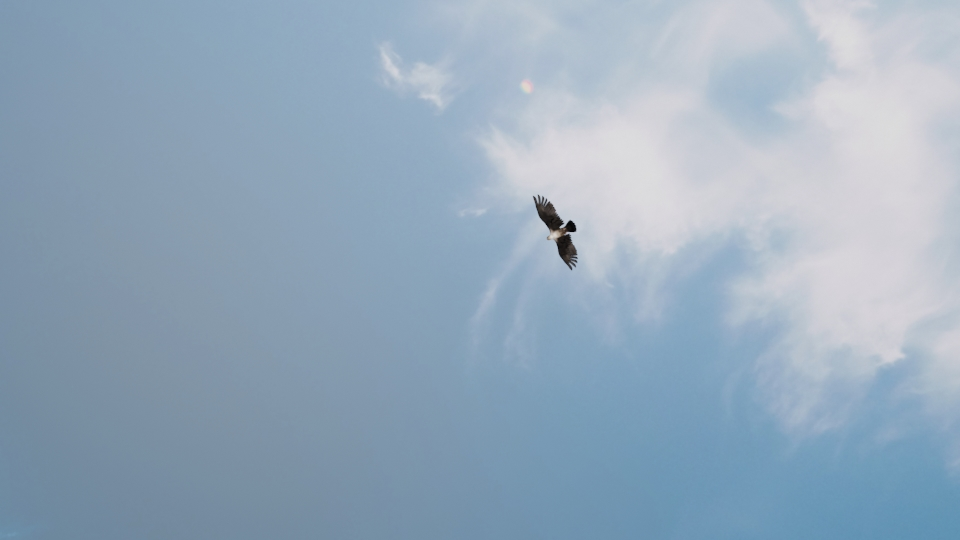bird: (531, 192, 582, 271)
